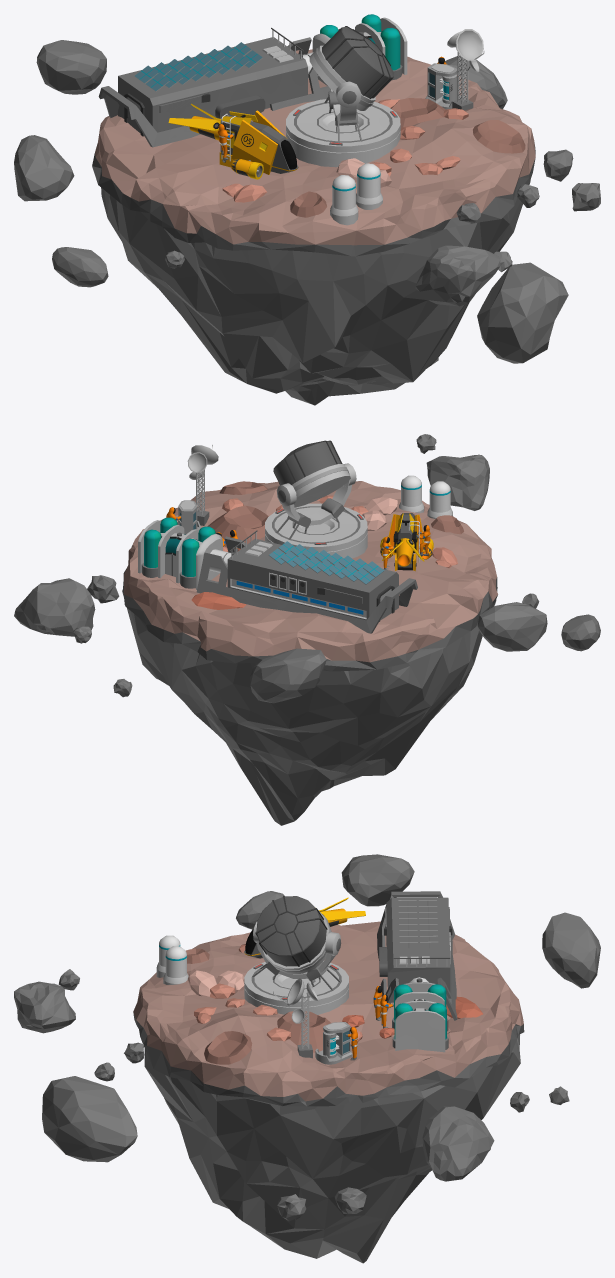
The model's file is land_36.fbx.
3 renders of one model, top to bottom at view 1: azimuth 30°, elevation 25°; view 2: azimuth 150°, elevation 25°; view 3: azimuth 270°, elevation 25°, orthographic. The views are drawn at different scales.
Visible parts, largest first — view 1: land_14.129, polySurface1212, polySurface999, Icosphere, polySurface1021, Icosphere.005, Icosphere.006, Icosphere.002, polySurface1212.001, polySurface1299, Icosphere.007, polySurface1094 (+7 smaller); view 2: land_14.129, polySurface1212, polySurface999, Icosphere.004, Icosphere.006, Icosphere.002, Icosphere.005, polySurface1212.001, polySurface1021, polySurface1299, polySurface1303.017, polySurface1094 (+5 smaller); view 3: land_14.129, polySurface1212, polySurface999, Icosphere, Icosphere.004, Icosphere.006, Icosphere.002, Icosphere.005, polySurface1299, Icosphere.001, polySurface1303.016, polySurface1094 (+7 smaller).
Boxes of the visible parts, <box> form: land_14.129: <box>92,49,535,405</box>; polySurface1212: <box>98,14,407,147</box>; polySurface999: <box>286,26,400,167</box>; Icosphere: <box>477,262,568,363</box>; polySurface1021: <box>168,103,298,179</box>; Icosphere.005: <box>415,245,500,306</box>; Icosphere.006: <box>36,40,106,94</box>; Icosphere.002: <box>14,135,74,201</box>; polySurface1212.001: <box>134,42,262,91</box>; polySurface1299: <box>330,163,382,225</box>; Icosphere.007: <box>52,247,108,287</box>; polySurface1094: <box>447,29,484,110</box>; land_14.129: <box>122,481,497,825</box>; polySurface1212: <box>138,517,417,633</box>; polySurface999: <box>265,440,367,558</box>; Icosphere.004: <box>14,578,95,636</box>; Icosphere.006: <box>250,648,326,703</box>; Icosphere.002: <box>477,602,547,651</box>; Icosphere.005: <box>426,454,489,510</box>; polySurface1212.001: <box>268,541,384,584</box>; polySurface1021: <box>380,513,433,571</box>; polySurface1299: <box>399,475,452,518</box>; polySurface1303.017: <box>207,505,268,547</box>; polySurface1094: <box>187,444,218,525</box>; land_14.129: <box>133,921,524,1263</box>; polySurface1212: <box>377,891,457,1052</box>; polySurface999: <box>244,895,348,1014</box>; Icosphere: <box>42,1076,137,1162</box>; Icosphere.004: <box>422,1106,494,1181</box>; Icosphere.006: <box>542,912,600,988</box>; Icosphere.002: <box>341,854,414,906</box>; Icosphere.005: <box>14,981,75,1033</box>; polySurface1299: <box>156,935,188,984</box>; Icosphere.001: <box>277,1187,366,1221</box>; polySurface1303.016: <box>204,1031,252,1064</box>; polySurface1094: <box>273,978,318,1058</box>.
Size of the model in its own units: 28.57 by 19.46 by 28.44.
